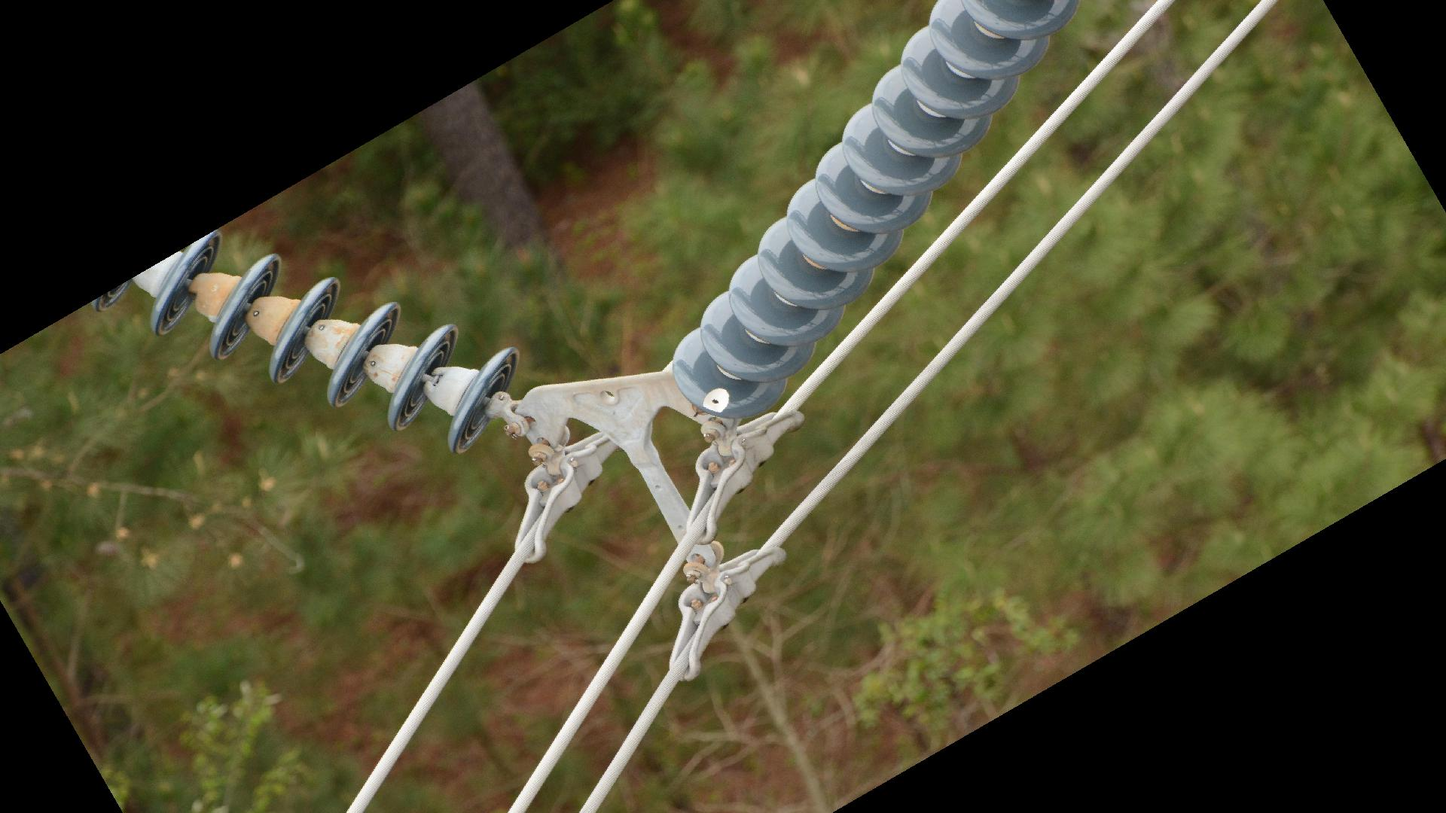insulator: (666, 1, 1073, 427), (91, 225, 525, 464)
insulator_breakage: (698, 384, 734, 417)
